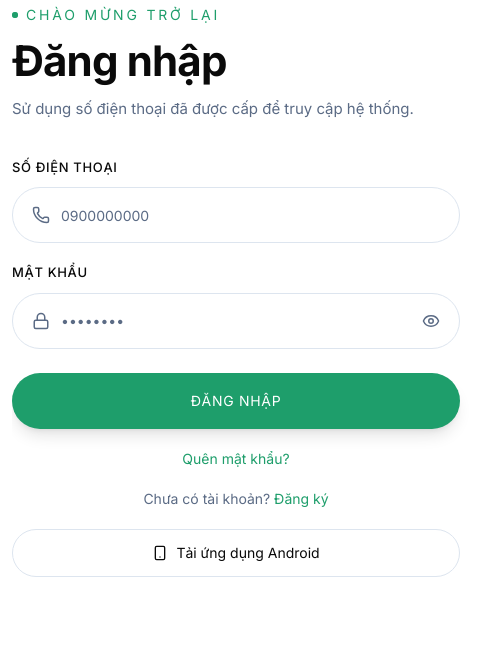
SignInForm › bỏ trống số điện thoại và mật khẩu — chặn submit, không gọi mutate
Click the button "Đăng nhập" at x=236, y=401, box [12,373,460,429]
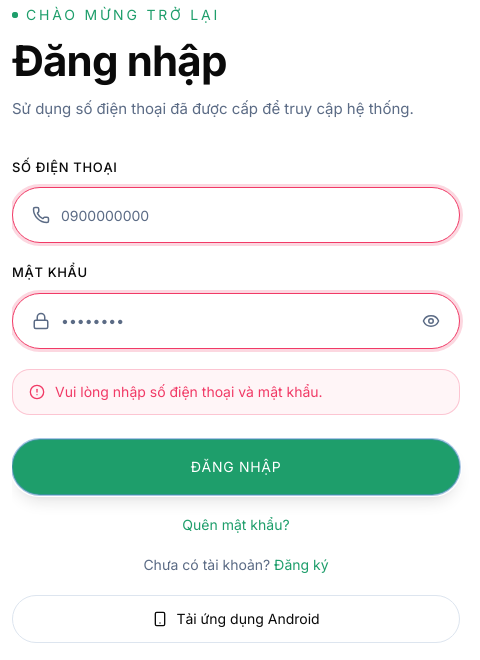
Expected: the text "Vui lòng nhập số điện thoại và mật khẩu." is shown, [55,382,323,402]
